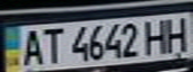2: (118, 19, 145, 58)
4: (103, 20, 127, 60), (66, 23, 90, 62)
6: (87, 21, 109, 61)
A: (18, 26, 45, 66)
H: (160, 14, 193, 53), (142, 16, 172, 55)
T: (36, 25, 66, 64)
